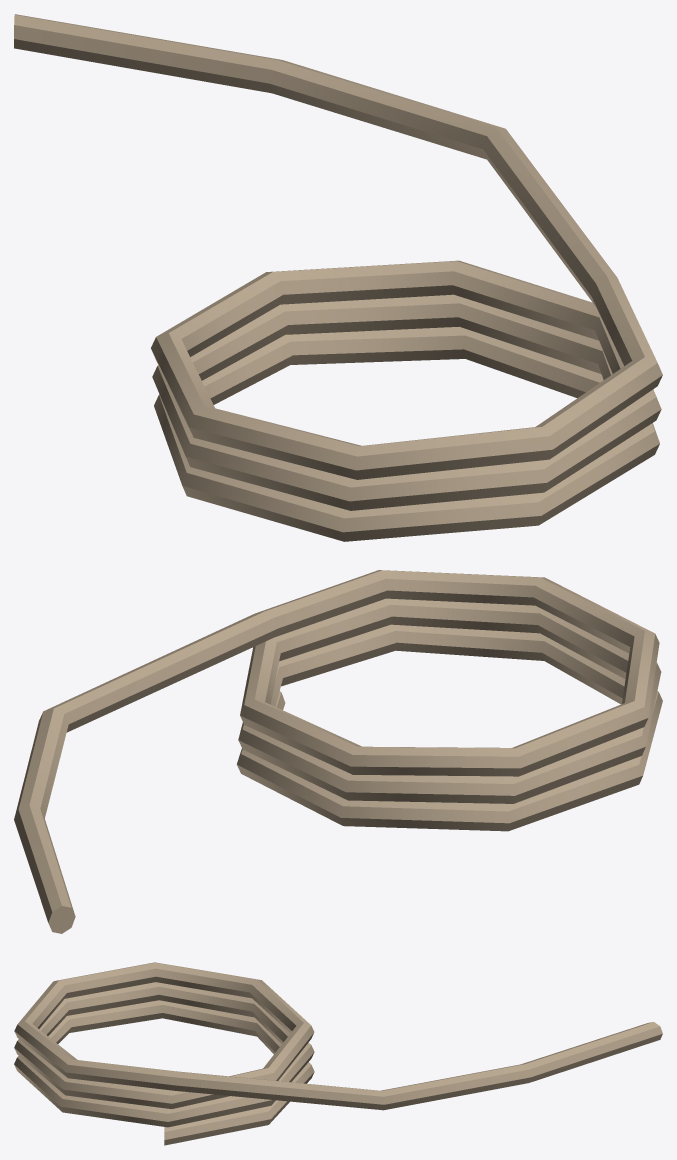
Rendered from lasso.fbx.
The picture shows the model from 3 angles, top to bottom: view 1: azimuth 30°, elevation 25°; view 2: azimuth 150°, elevation 25°; view 3: azimuth 270°, elevation 25°; orthographic projection. The views are drawn at different scales.
Parts seen in each view (by area): view 1: pHelix1; view 2: pHelix1; view 3: pHelix1.
Part boxes in pixels (box(x1,y1,x2,y2)): pHelix1: box(14, 14, 662, 541); pHelix1: box(14, 570, 662, 933); pHelix1: box(14, 962, 662, 1145).
Size of the model in its own units: 7.28 by 1.71 by 13.65.
